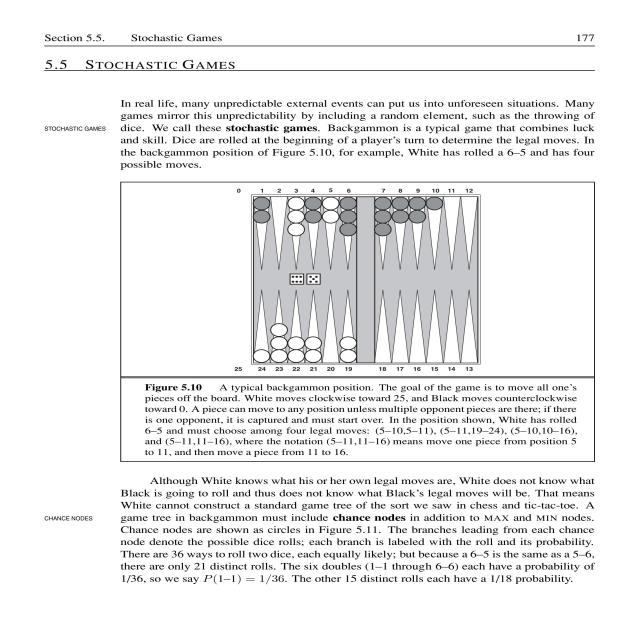diagram: (127, 183, 612, 461)
